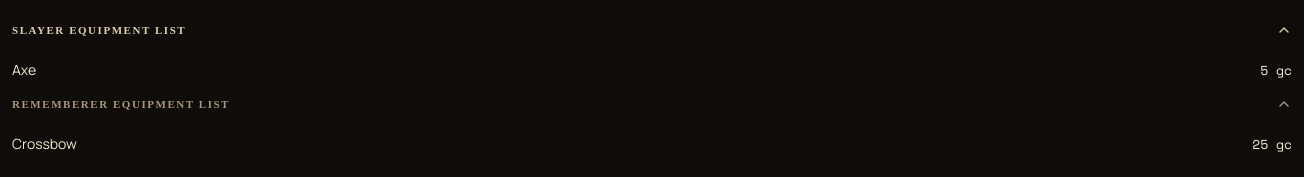
Test case: TemplateLists › shows every list on the web, each one hiding on its name
Expected: the list named "Slayer Equipment List" is shown, [12, 54, 1292, 86]
Expected: the list named "Rememberer Equipment List" is shown, [12, 128, 1292, 160]
Click the button "Rememberer Equipment List": (121, 104) [12, 86, 1292, 122]
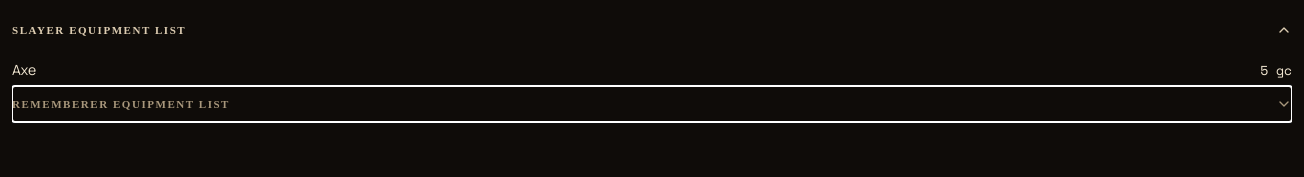
Expected: the list named "Slayer Equipment List" is shown, [12, 54, 1292, 86]
Now the button "Rememberer Equipment List" is collapsed, box [12, 86, 1292, 122]
